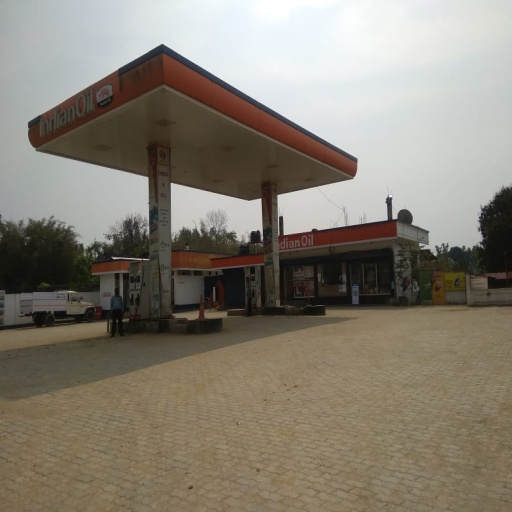roof: (31, 43, 358, 198)
